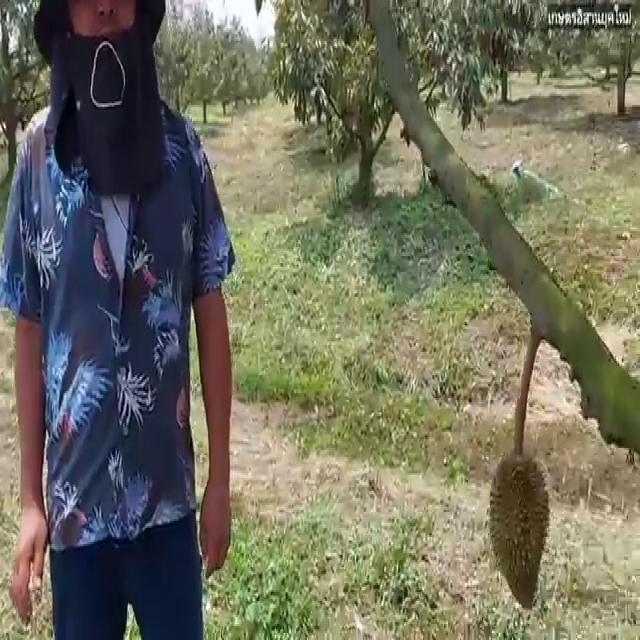durian: (486, 448, 553, 614)
